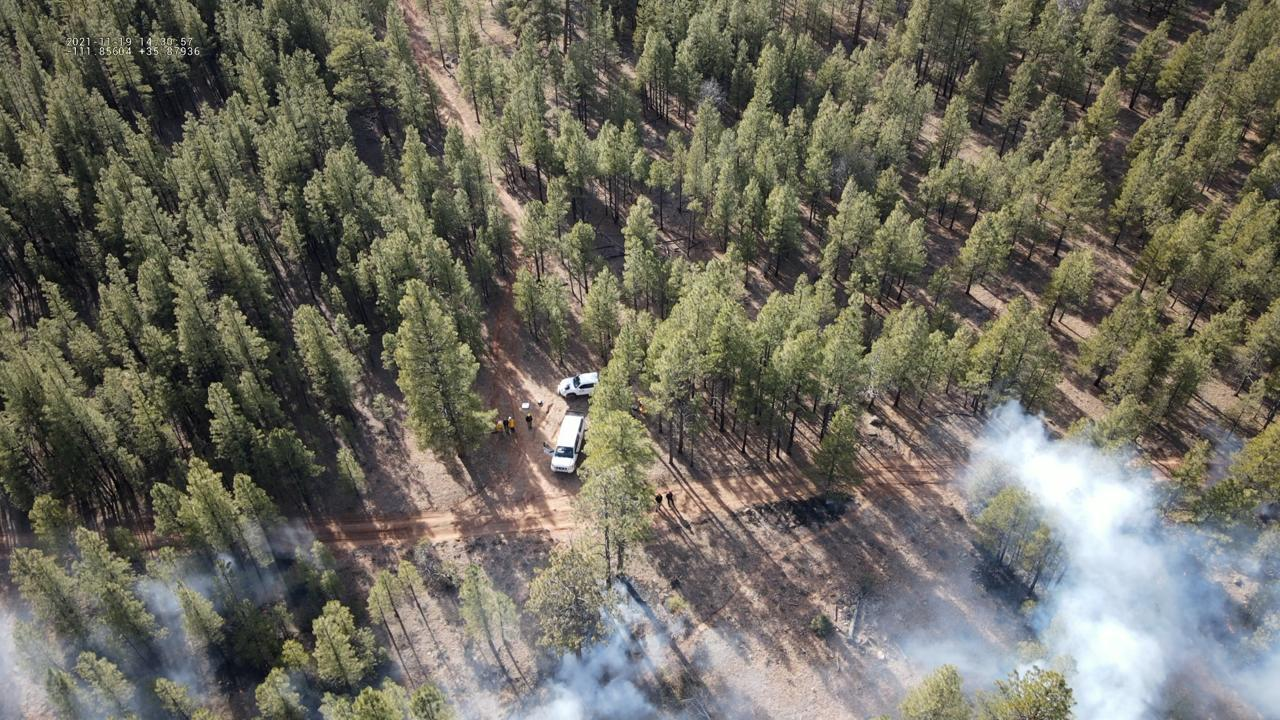smoke: (859, 396, 1280, 720), (0, 512, 331, 720), (445, 574, 749, 720)
